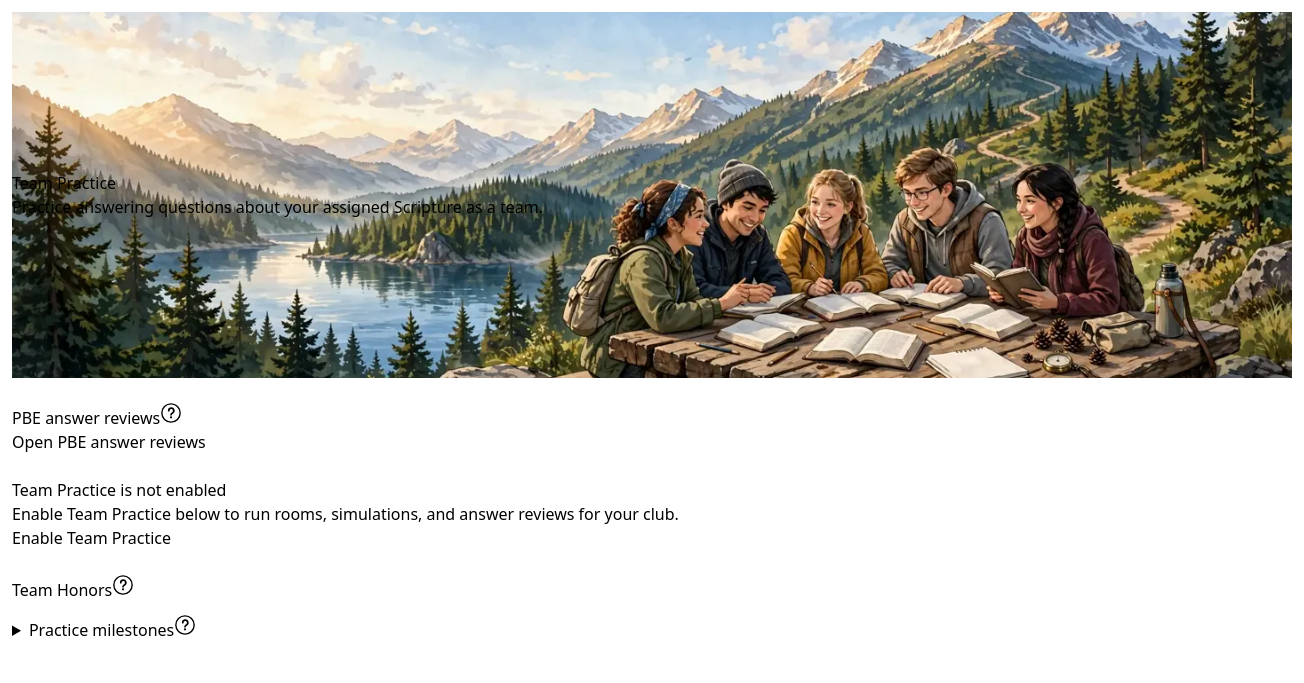
Test: Team Practice hub › lets a Coach enable practice and refresh the available setup
Click the button "Enable Team Practice" at x=92, y=538, box [12,526,171,550]
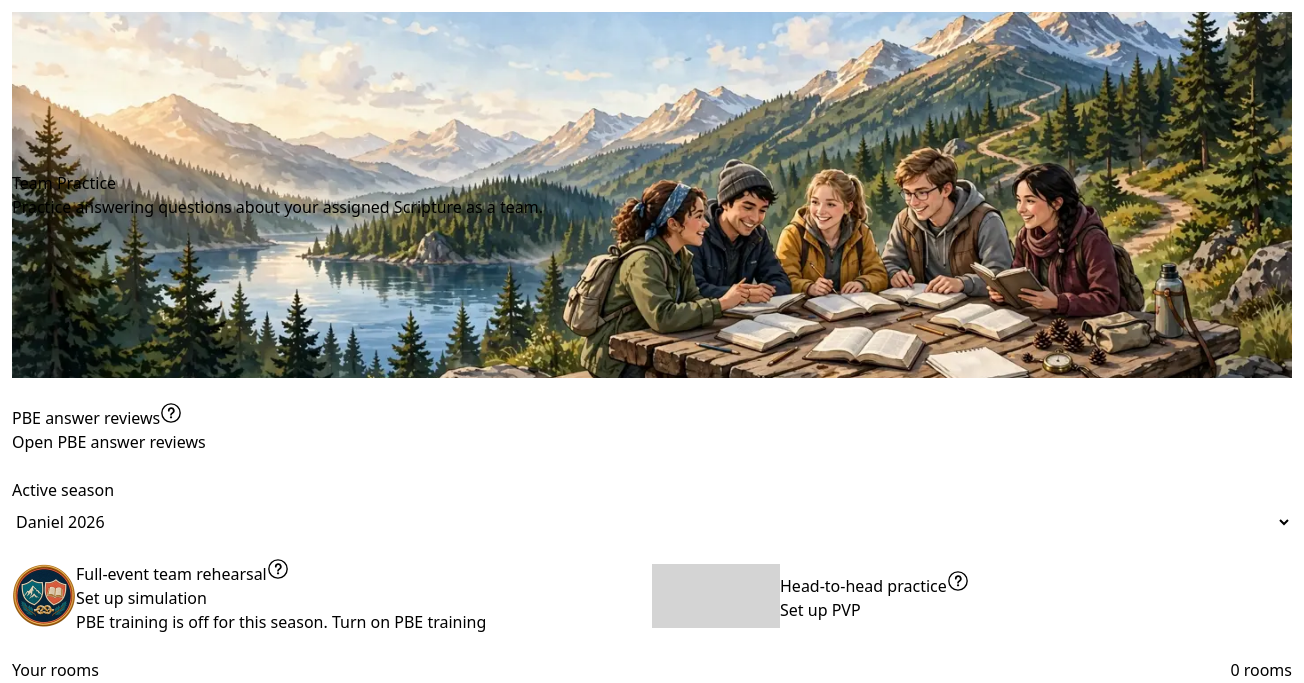
Now the button "Set up PVP" is enabled, box [780,598,861,622]
